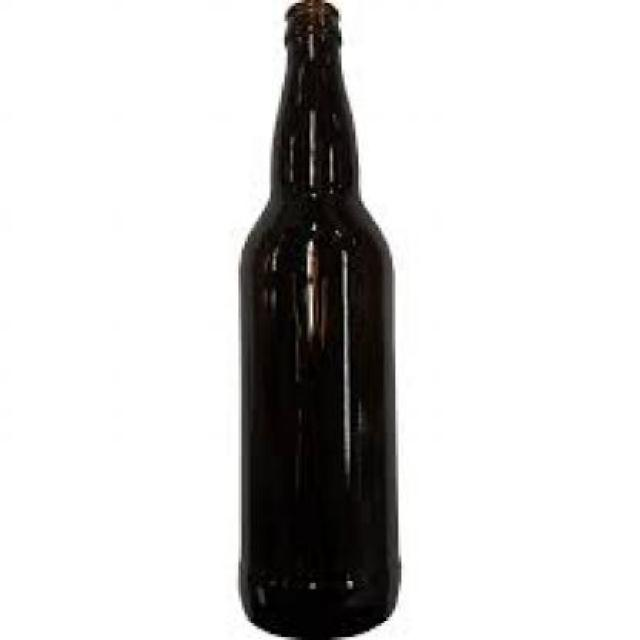GLASS: (236, 0, 401, 637)
